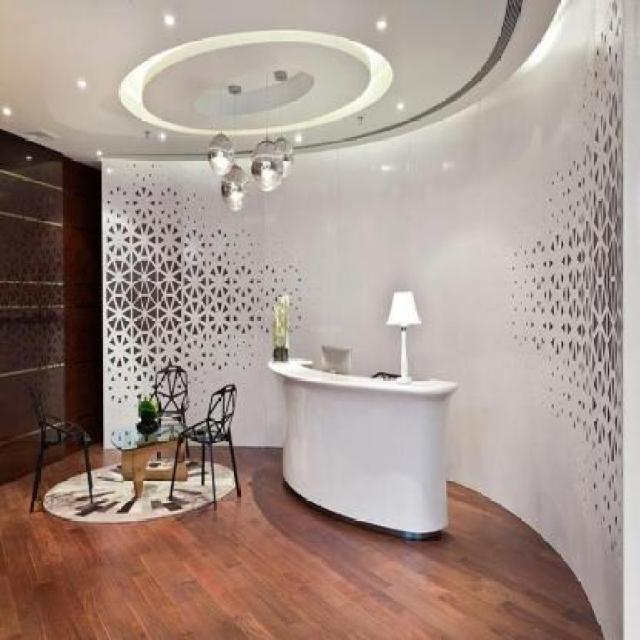frontdesk: (263, 344, 466, 548)
